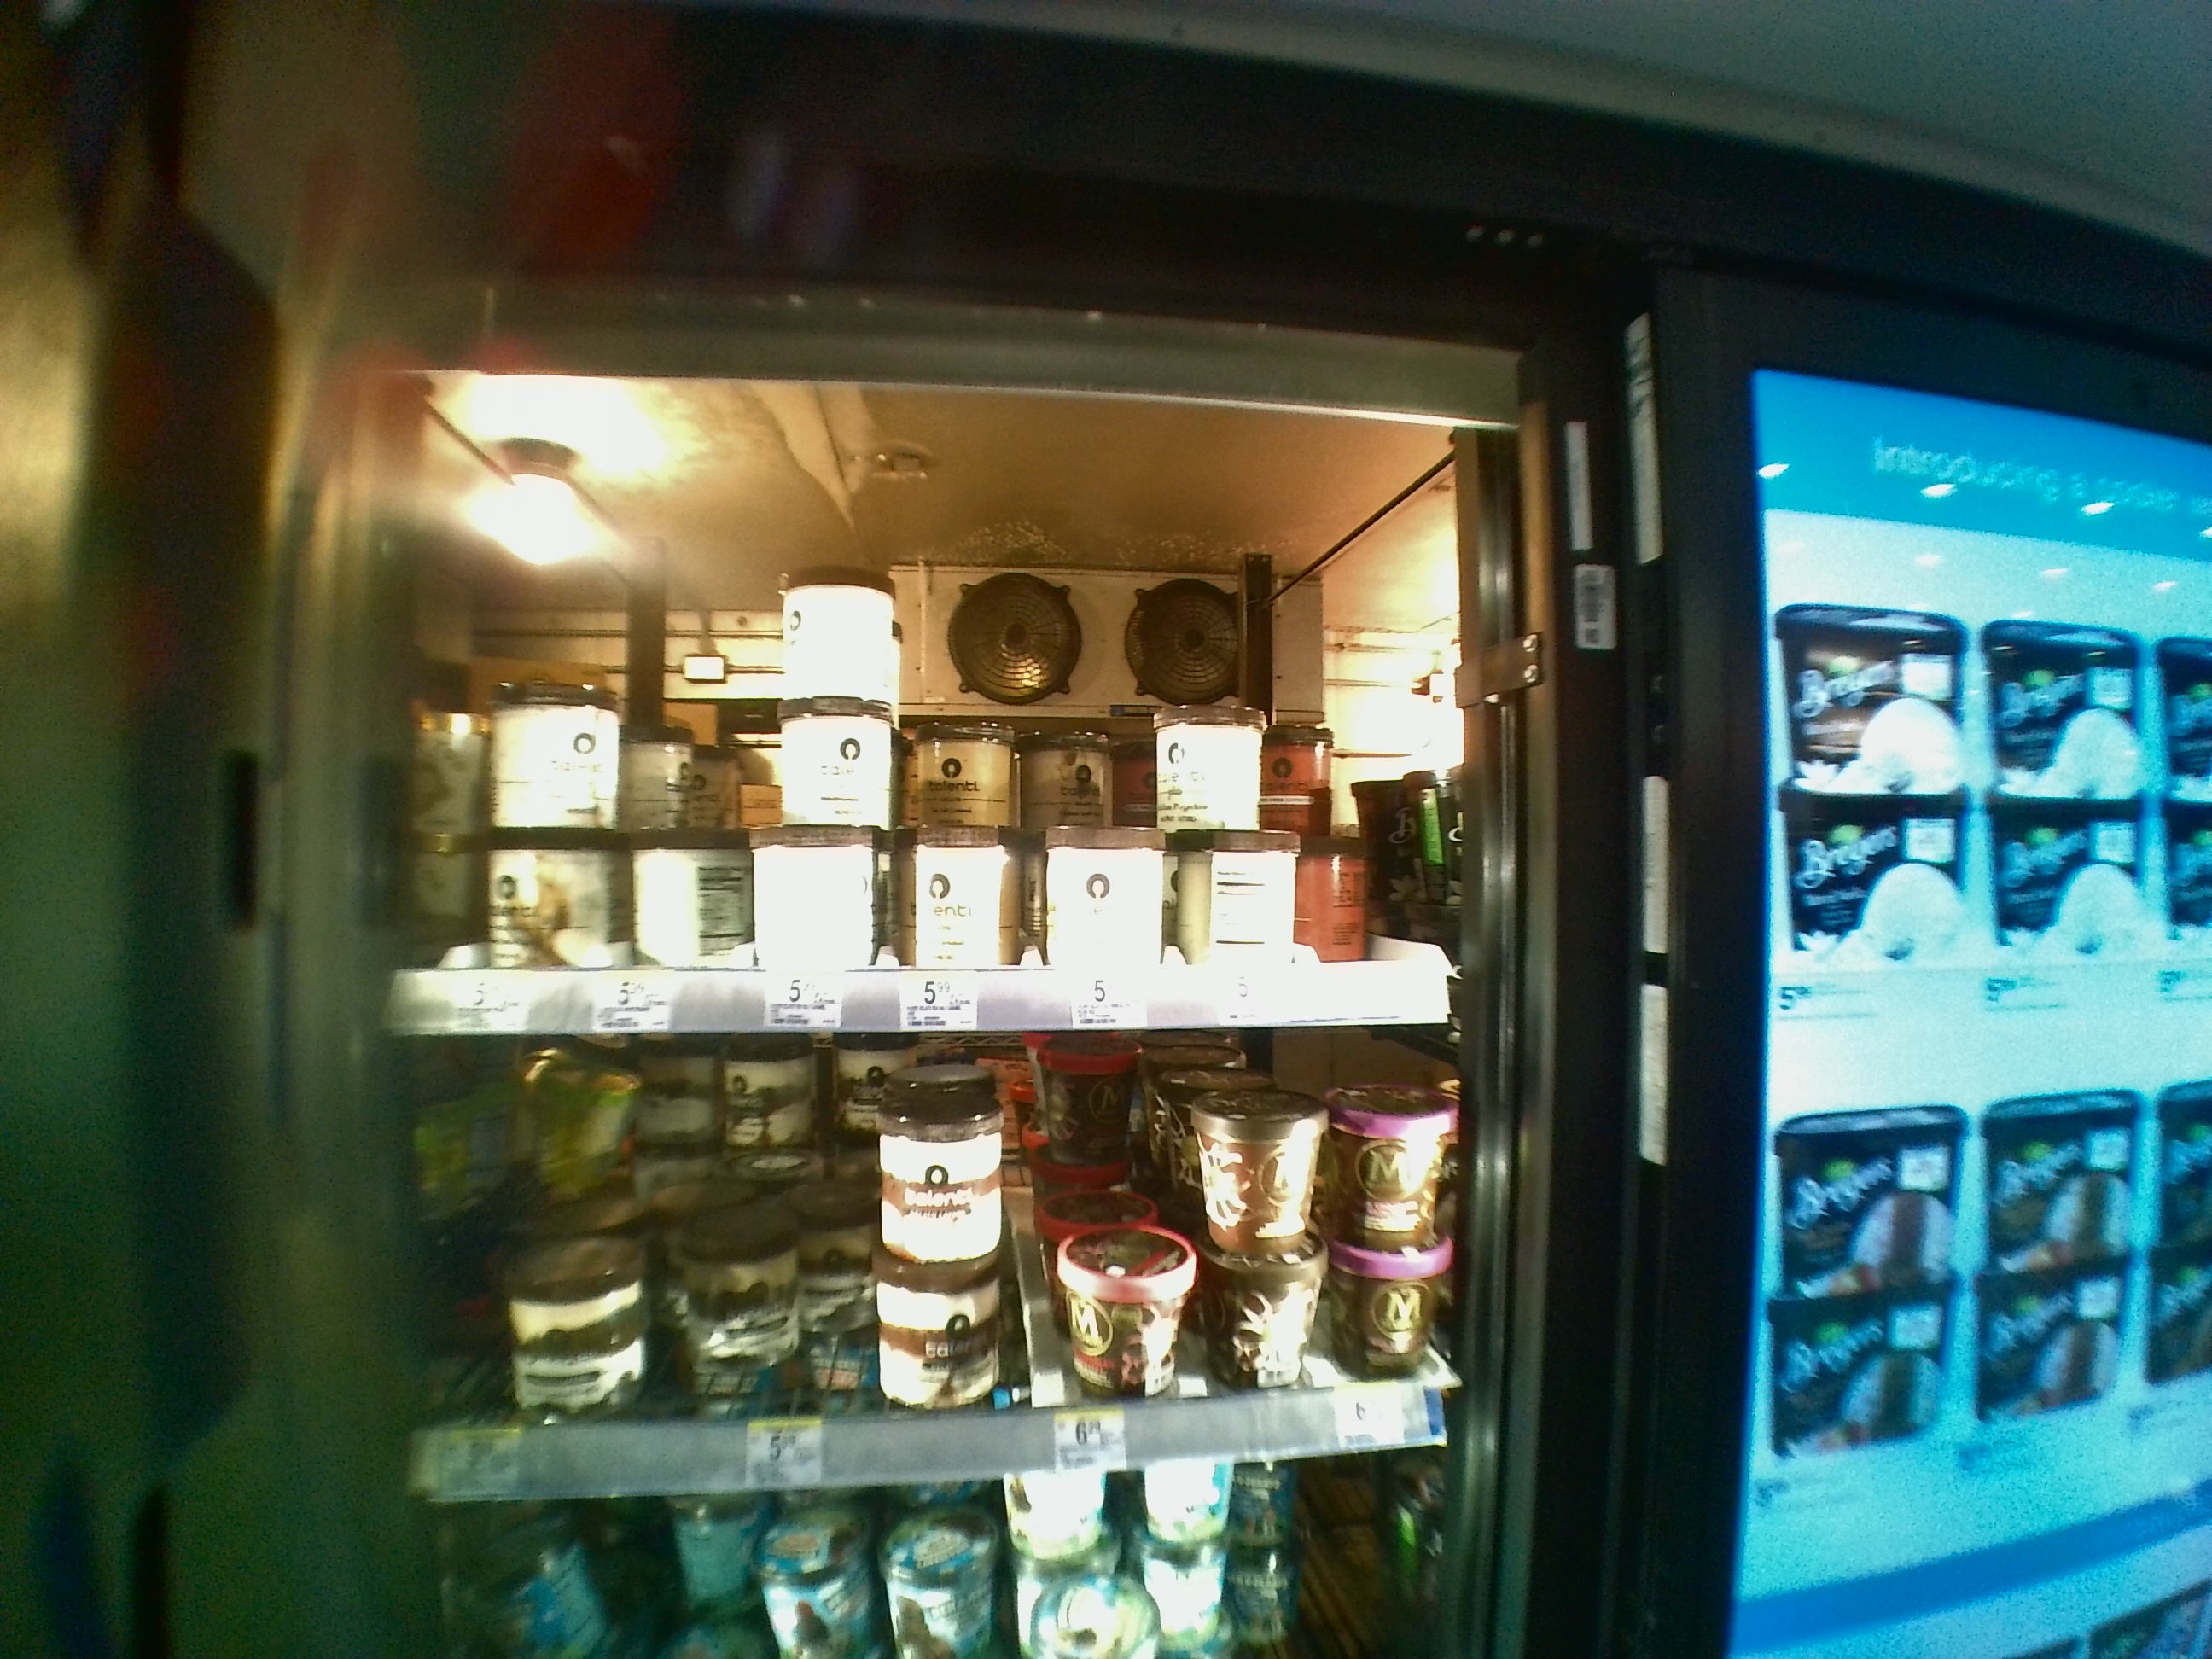shelf: (381, 443, 1474, 1028), (381, 1042, 1451, 1497)
